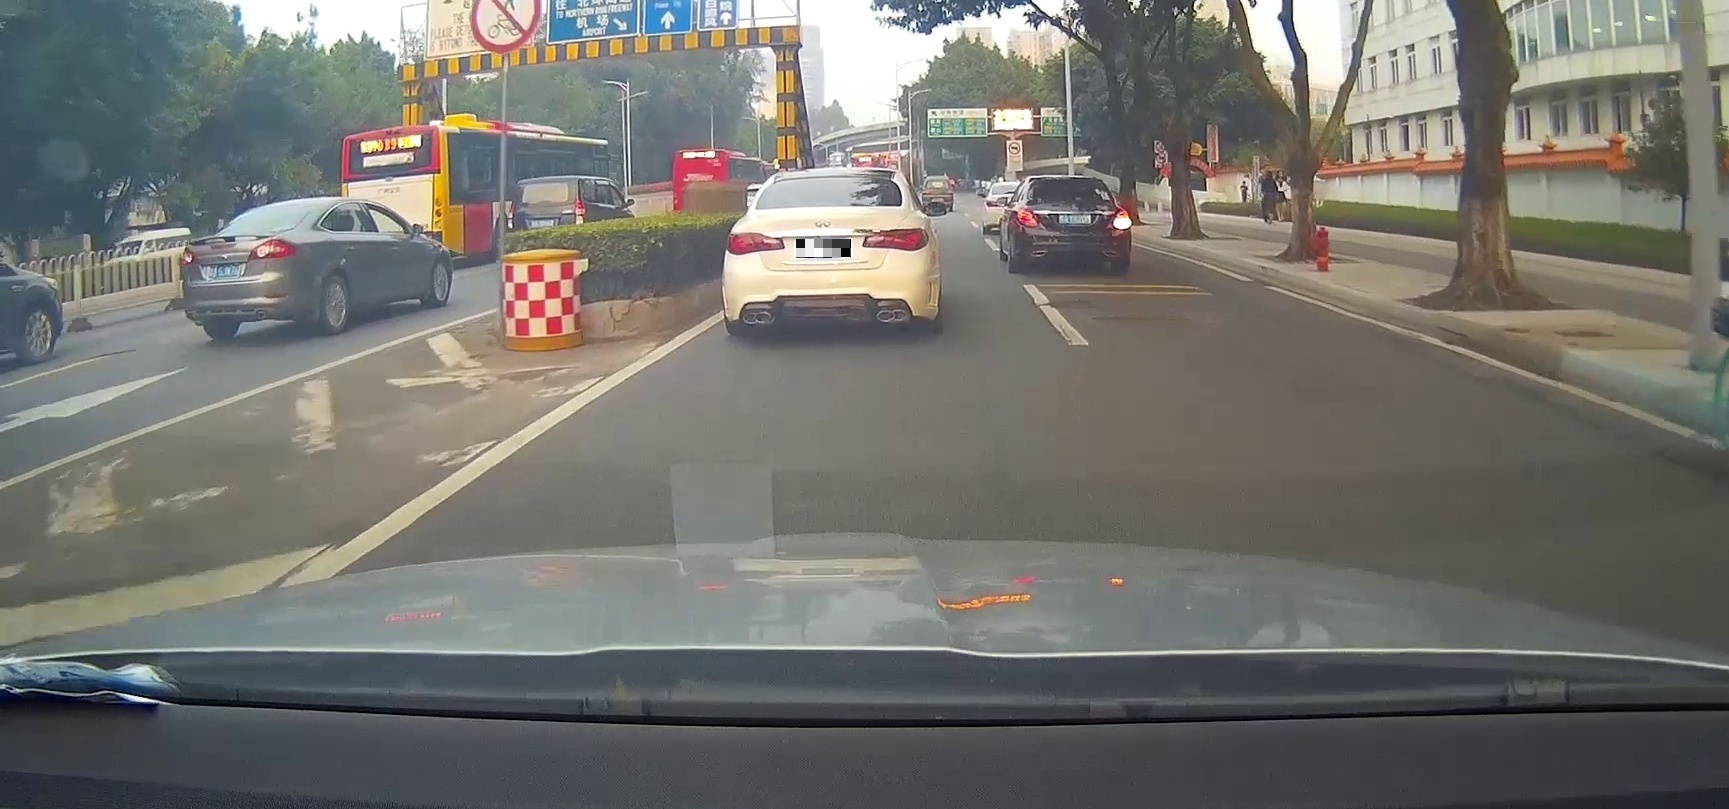L_light: (726, 231, 786, 255), (1016, 206, 1040, 229), (181, 246, 200, 266)
R_light: (862, 228, 928, 251), (247, 238, 296, 259), (1107, 209, 1131, 231)
T_light: (817, 177, 845, 182), (273, 205, 291, 209), (1057, 177, 1075, 181)
day-no: (722, 168, 941, 337), (180, 197, 325, 339)
night-right: (1007, 175, 1132, 274)
plate_1: (796, 239, 851, 258)
